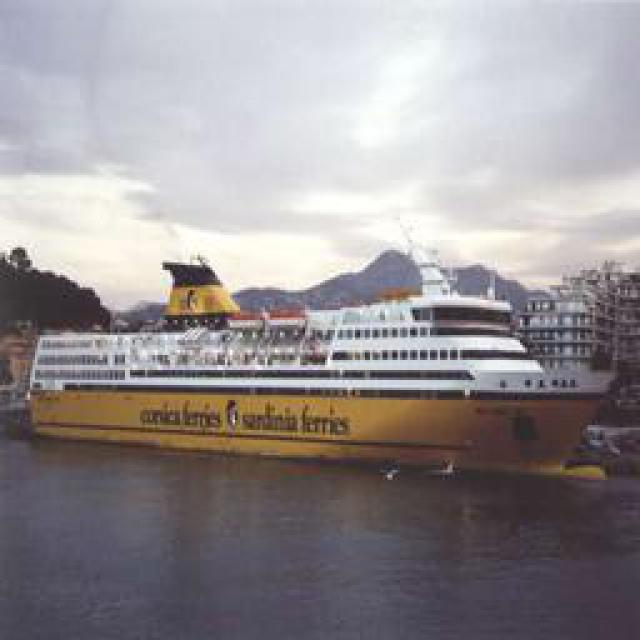Ship: (23, 265, 571, 458)
